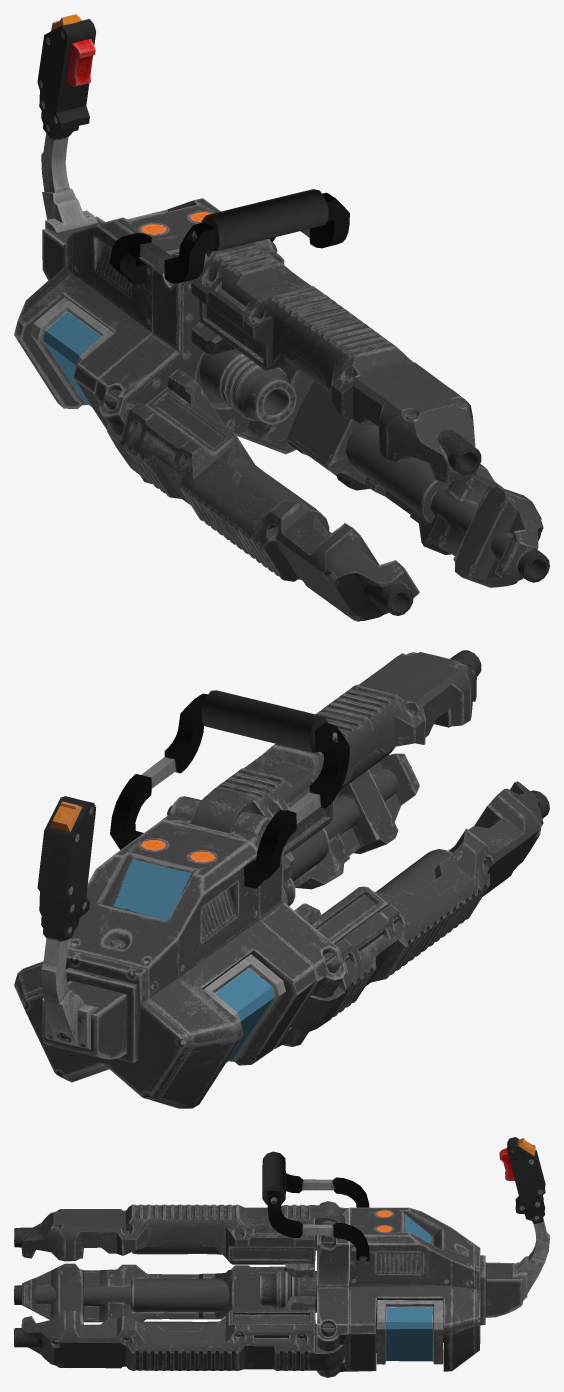
The model's file is SM_SciFiLaserGatlinGun.FBX.
The picture shows the model from 3 angles, top to bottom: view 1: azimuth 30°, elevation 25°; view 2: azimuth 150°, elevation 25°; view 3: azimuth 270°, elevation 25°; orthographic projection. The views are drawn at different scales.
Visible parts, largest first — view 1: SM_SciFiLaserGatlinGun; view 2: SM_SciFiLaserGatlinGun; view 3: SM_SciFiLaserGatlinGun.
Part boxes in pixels (box(x1,y1,x2,y2)): SM_SciFiLaserGatlinGun: box(14, 14, 549, 621); SM_SciFiLaserGatlinGun: box(14, 650, 549, 1108); SM_SciFiLaserGatlinGun: box(14, 1137, 549, 1377).
Bounding box in the file's own units: 32.55 × 43.52 × 98.32.
